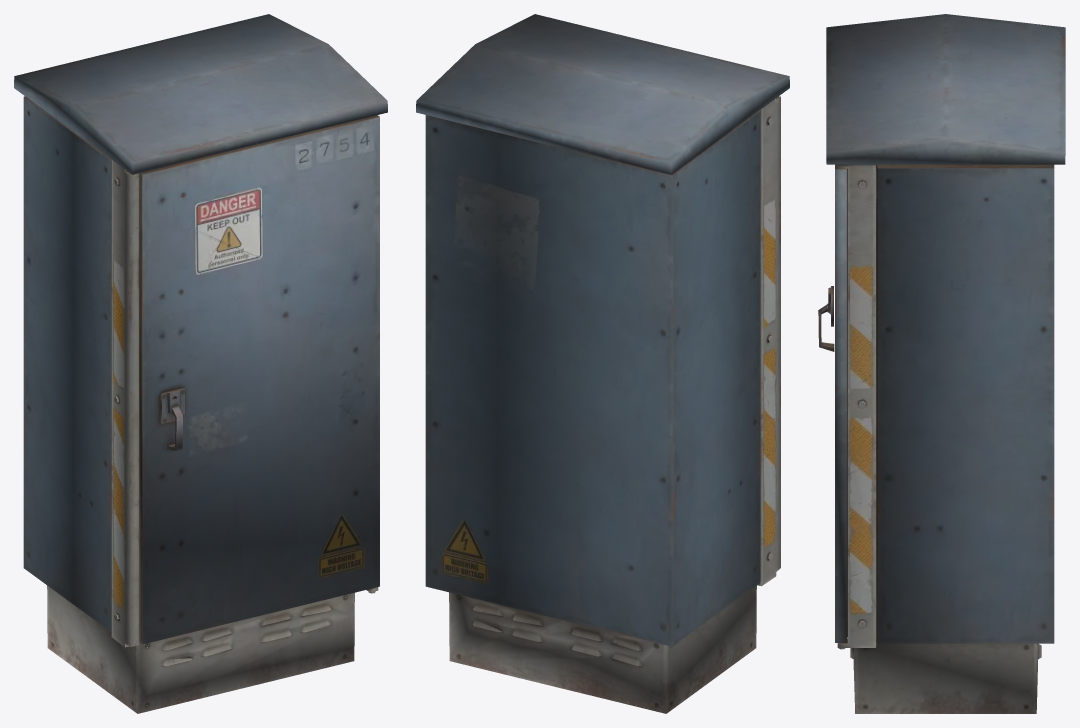
File: ph_utility_box_01.glb
3 renders of one model, left to right at view 1: azimuth 30°, elevation 25°; view 2: azimuth 150°, elevation 25°; view 3: azimuth 270°, elevation 25°, orthographic.
Parts seen in each view (by area): view 1: utility_box_01_box; view 2: utility_box_01_box; view 3: utility_box_01_box.
Boxes of the visible parts, left/top/right/bottom form: utility_box_01_box: left=14, top=14, right=387, bottom=713; utility_box_01_box: left=416, top=14, right=789, bottom=713; utility_box_01_box: left=818, top=14, right=1065, bottom=713.
Size of the model in its own units: 0.5164 by 1.12 by 0.4287.
Materials: 1 (1 with a texture image).
